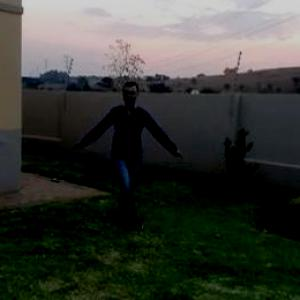land: (70, 75, 188, 225)
